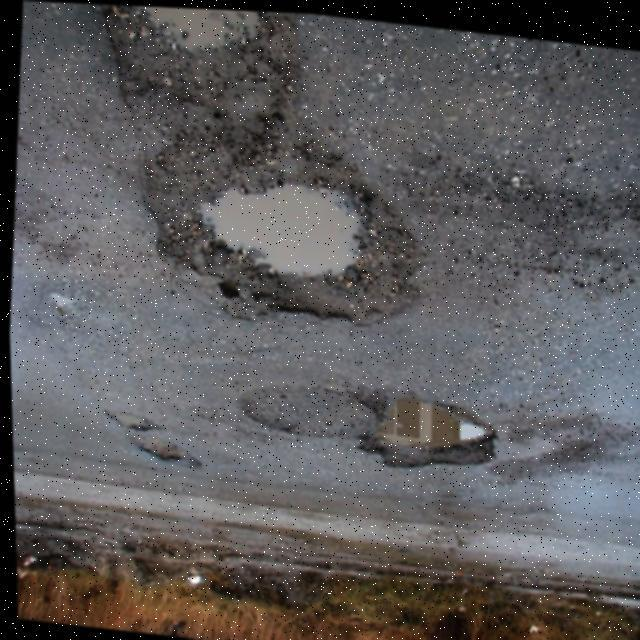pothole: (163, 153, 408, 329), (342, 381, 504, 478), (105, 3, 274, 84)
